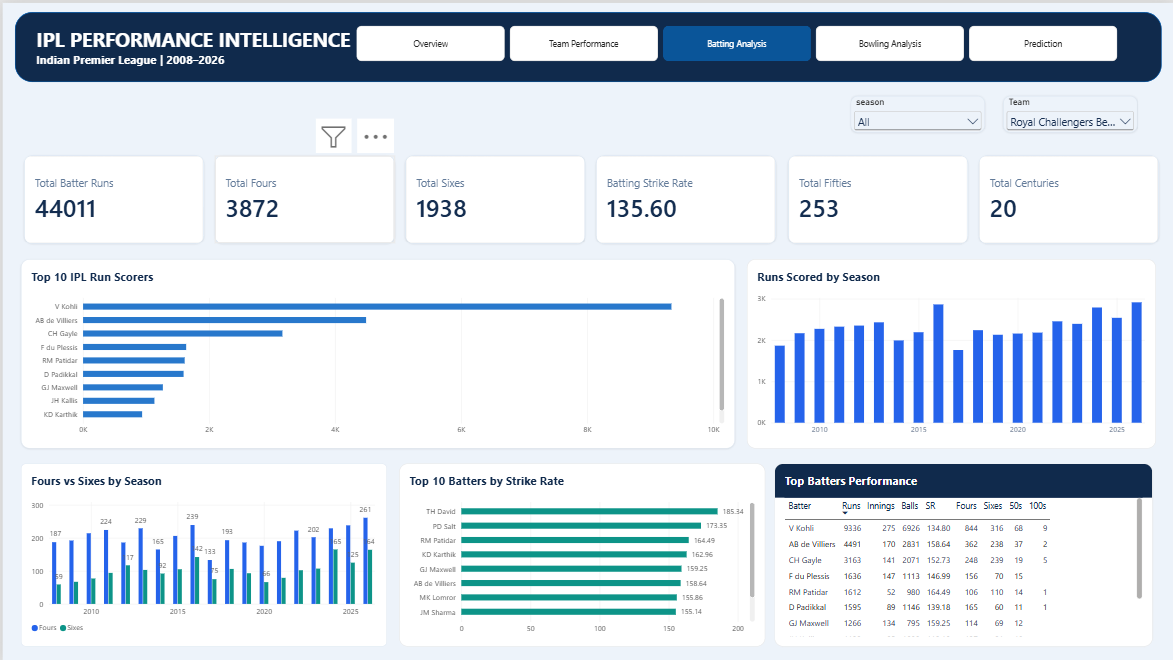

The dashboard page shown, as its layout file describes it:
{"tool":"powerbi","page":{"name":"Batting Analysis","canvas":[1920,1080],"ordinal":2},"visuals":[{"type":"shape","box":[20,15,1880,115],"z":0},{"type":"textbox","box":[55,37,1834.4,93.3],"z":1000},{"type":"pageNavigator","box":[580,38,1250,58],"z":2000},{"type":"slicer","fields":{"Values":["ipl_matches.season"]},"box":[1390,153,220,60],"z":3000},{"type":"slicer","fields":{"Values":["Teams.Team"]},"box":[1640,153,220,60],"z":4000},{"type":"cardVisual","fields":{"Data":["ipl_ball_ball.Batting_Total_Centuries"]},"box":[1599.6,250.7,295,145],"z":5000},{"type":"cardVisual","fields":{"Data":["ipl_ball_ball.Batting_Strike_Rate"]},"box":[973.6,250.7,295,145],"z":6000},{"type":"cardVisual","fields":{"Data":["ipl_ball_ball.Batting_Total_Runs"]},"box":[34.6,250.7,295,145],"z":7000},{"type":"cardVisual","fields":{"Data":["ipl_ball_ball.Batting_Total_Sixes"]},"box":[660.6,250.7,295,145],"z":8000},{"type":"cardVisual","fields":{"Data":["ipl_ball_ball.Batting_Total_Fifties"]},"box":[1286.6,250.7,295,145],"z":9000},{"type":"cardVisual","fields":{"Data":["ipl_ball_ball.Batting_Total_Fours"]},"box":[347.6,250.7,295,145],"z":10000},{"type":"clusteredBarChart","title":"Top 10 IPL Run Scorers","fields":{"Category":["ipl_ball_ball.batter"],"Y":["ipl_ball_ball.Batting_Total_Runs"]},"box":[30,420,1170,310],"z":11000},{"type":"clusteredColumnChart","title":"Runs Scored by Season","fields":{"Category":["ipl_matches.season"],"Y":["ipl_ball_ball.Batting_Total_Runs"]},"box":[1220,420,670,310],"z":12000},{"type":"clusteredColumnChart","title":"Fours vs Sixes by Season","fields":{"Category":["ipl_matches.season"],"Y":["ipl_ball_ball.Batting_Total_Fours","ipl_ball_ball.Batting_Total_Sixes"]},"box":[30,755,600,300],"z":13000},{"type":"clusteredBarChart","title":"\tTop 10 Batters by Strike Rate","fields":{"Category":["ipl_ball_ball.batter"],"Y":["ipl_ball_ball.Qualified_Batter_Strike_Rate"]},"box":[650,755,600,300],"z":14000},{"type":"tableEx","title":"Top Batters Performance","fields":{"Values":["ipl_ball_ball.batter","ipl_ball_ball.Batting_Total_Runs","ipl_ball_ball.Batter_Innings","ipl_ball_ball.Batting_Balls_Faced","ipl_ball_ball.Batting_Strike_Rate","ipl_ball_ball.Batting_Total_Fours","ipl_ball_ball.Batting_Total_Sixes","ipl_ball_ball.Batting_Total_Fifties","ipl_ball_ball.Batting_Total_Centuries"]},"box":[1265,755,620,300],"z":15000}]}

Visuals, with their boxes in screenshot pixels (x1, y1, x2, y2), scaled from the page's 1920x1080 canvas onto the 1173x660 screenshot:
shape: <box>12,9,1161,79</box>
textbox: <box>34,23,1154,80</box>
pageNavigator: <box>354,23,1118,59</box>
slicer - ipl_matches.season: <box>849,94,984,130</box>
slicer - Teams.Team: <box>1002,94,1136,130</box>
cardVisual - ipl_ball_ball.Batting_Total_Centuries: <box>977,153,1157,242</box>
cardVisual - ipl_ball_ball.Batting_Strike_Rate: <box>595,153,775,242</box>
cardVisual - ipl_ball_ball.Batting_Total_Runs: <box>21,153,201,242</box>
cardVisual - ipl_ball_ball.Batting_Total_Sixes: <box>404,153,584,242</box>
cardVisual - ipl_ball_ball.Batting_Total_Fifties: <box>786,153,966,242</box>
cardVisual - ipl_ball_ball.Batting_Total_Fours: <box>212,153,393,242</box>
"Top 10 IPL Run Scorers" clusteredBarChart: <box>18,257,733,446</box>
"Runs Scored by Season" clusteredColumnChart: <box>745,257,1155,446</box>
"Fours vs Sixes by Season" clusteredColumnChart: <box>18,461,385,645</box>
"	Top 10 Batters by Strike Rate" clusteredBarChart: <box>397,461,764,645</box>
"Top Batters Performance" tableEx: <box>773,461,1152,645</box>
